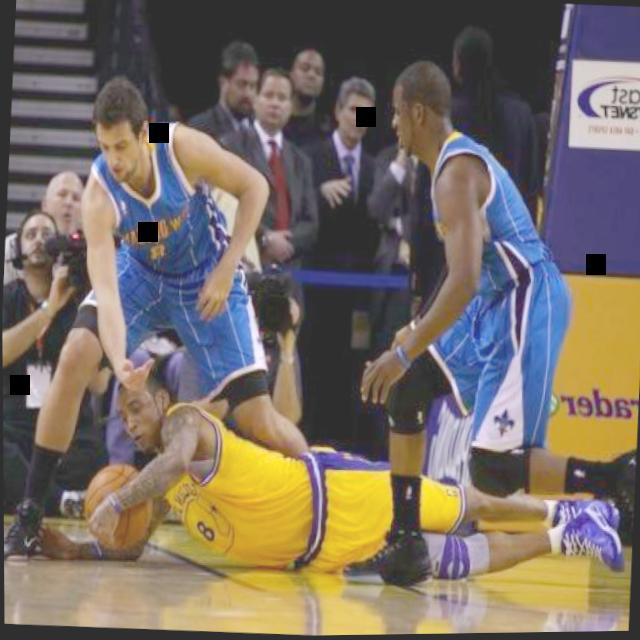Fall-Detected: (50, 310, 640, 603)
